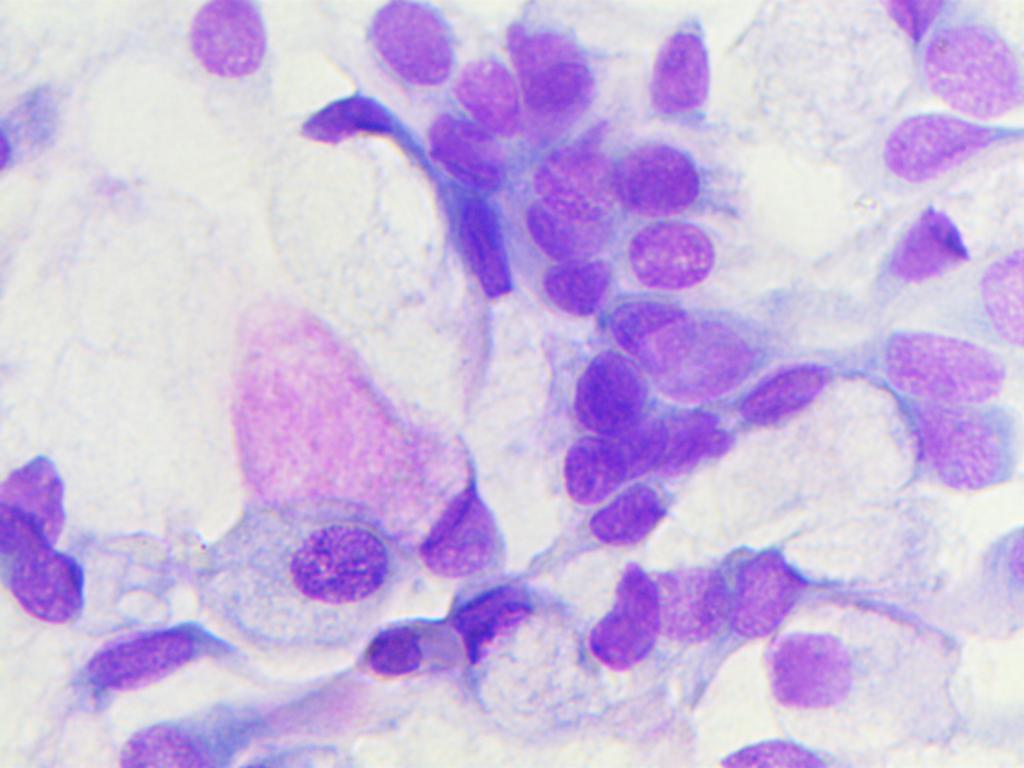artifact: (411, 197, 526, 308), (296, 86, 423, 183)
epithelial: (223, 504, 382, 630), (67, 624, 236, 710), (867, 98, 1024, 176), (629, 8, 732, 126), (753, 622, 860, 733), (916, 13, 1023, 124), (634, 319, 752, 419), (499, 18, 602, 123), (615, 216, 747, 296), (729, 347, 833, 431), (363, 2, 457, 93), (559, 419, 663, 501), (187, 1, 277, 94), (528, 137, 619, 228), (352, 614, 442, 706), (424, 108, 510, 200), (608, 147, 714, 219), (561, 351, 642, 437), (536, 251, 624, 324), (592, 301, 712, 352), (583, 479, 676, 543), (108, 716, 221, 768), (446, 59, 519, 136), (518, 201, 607, 258), (634, 411, 641, 421)
goblet_cell: (720, 507, 946, 637), (369, 387, 519, 578), (429, 590, 596, 738), (0, 529, 198, 623), (816, 403, 1017, 494), (862, 171, 1024, 283), (590, 561, 739, 673), (819, 332, 1024, 401), (0, 457, 107, 553)
